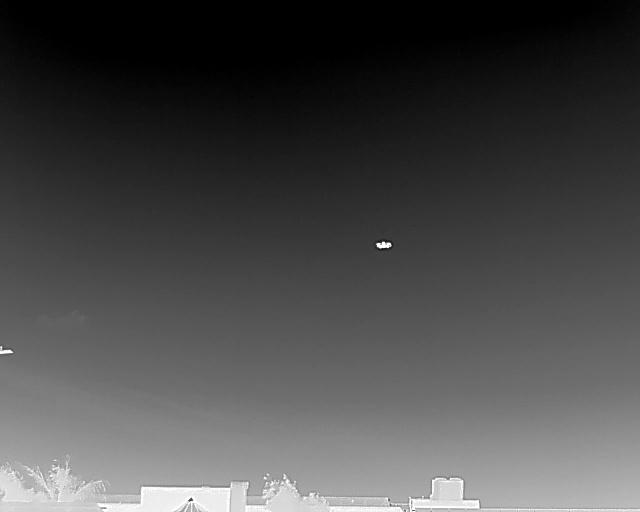fpv-drone: (374, 239, 393, 250)
